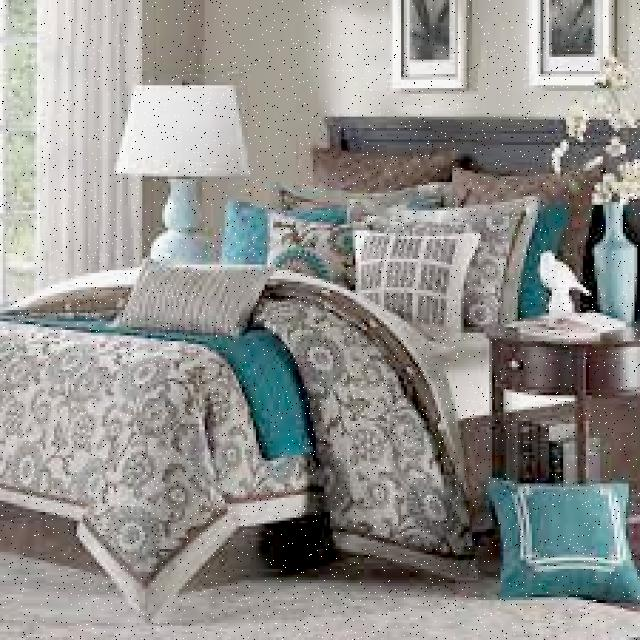bed: (0, 141, 585, 547)
